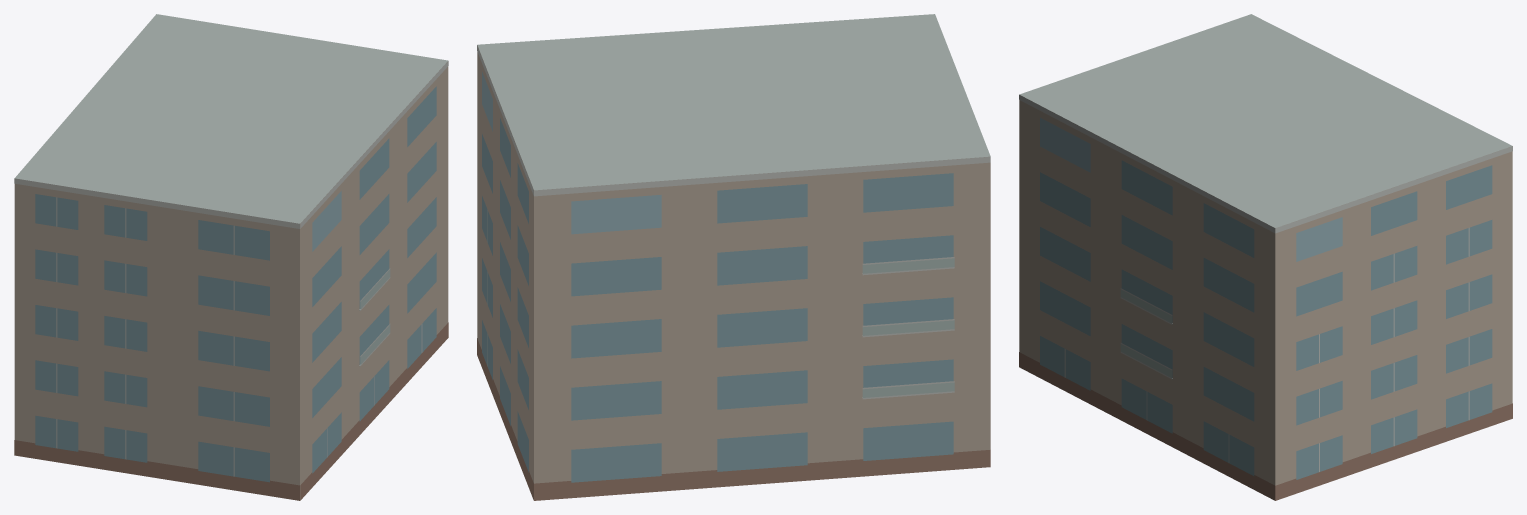
Rendered from survey-upis-33038241.glb.
3 renders of one model, left to right at view 1: azimuth 30°, elevation 25°; view 2: azimuth 150°, elevation 25°; view 3: azimuth 270°, elevation 25°, orthographic. The views are drawn at different scales.
Visible parts, largest first — view 1: survey-upis-33038241.tmp; view 2: survey-upis-33038241.tmp; view 3: survey-upis-33038241.tmp.
Boxes of the visible parts, left/top/right/bottom form: survey-upis-33038241.tmp: left=14, top=14, right=448, bottom=500; survey-upis-33038241.tmp: left=477, top=14, right=990, bottom=500; survey-upis-33038241.tmp: left=1019, top=14, right=1512, bottom=500.
Size of the model in its own units: 21.32 by 12.65 by 20.76.
